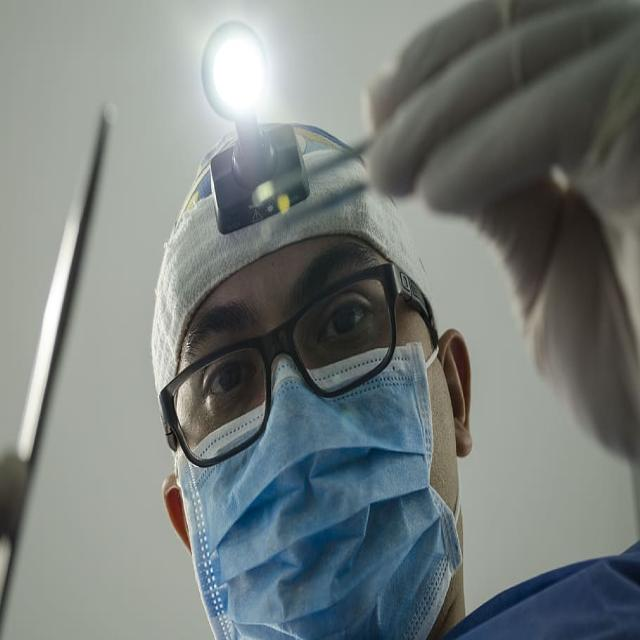1_mascarilla: (172, 413, 434, 640)
